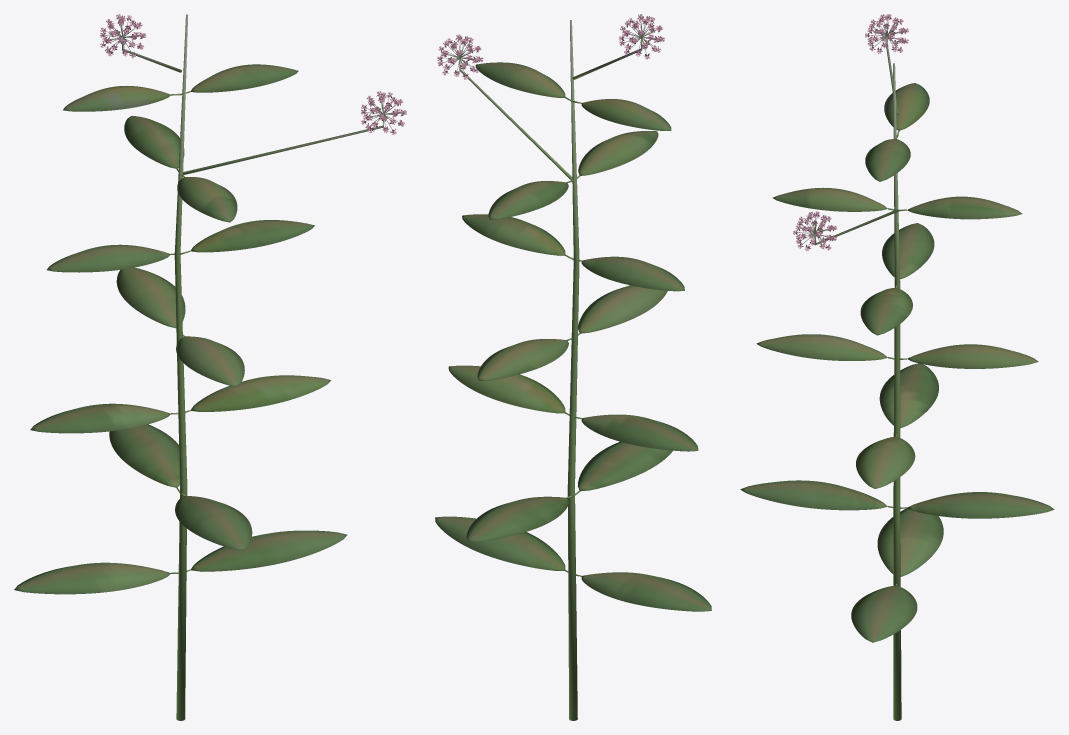
File: common_milkweed_hybrid.glb
The picture shows the model from 3 angles, left to right: view 1: azimuth 30°, elevation 25°; view 2: azimuth 150°, elevation 25°; view 3: azimuth 270°, elevation 25°; orthographic projection. The views are drawn at different scales.
Visible parts, largest first — view 1: MilkweedOppositeLeaves, MilkweedStems, MilkweedFlowers; view 2: MilkweedOppositeLeaves, MilkweedStems, MilkweedFlowers; view 3: MilkweedOppositeLeaves, MilkweedStems, MilkweedFlowers.
Part boxes in pixels (bbox=[...]): MilkweedOppositeLeaves: bbox=[14, 64, 347, 594]; MilkweedStems: bbox=[104, 14, 401, 720]; MilkweedFlowers: bbox=[100, 14, 406, 134]; MilkweedOppositeLeaves: bbox=[435, 62, 711, 611]; MilkweedStems: bbox=[441, 20, 658, 720]; MilkweedFlowers: bbox=[437, 14, 664, 79]; MilkweedOppositeLeaves: bbox=[740, 83, 1054, 642]; MilkweedStems: bbox=[796, 19, 906, 720]; MilkweedFlowers: bbox=[793, 14, 908, 251].
Size of the model in its own units: 0.5239 by 1.09 by 0.4596.
